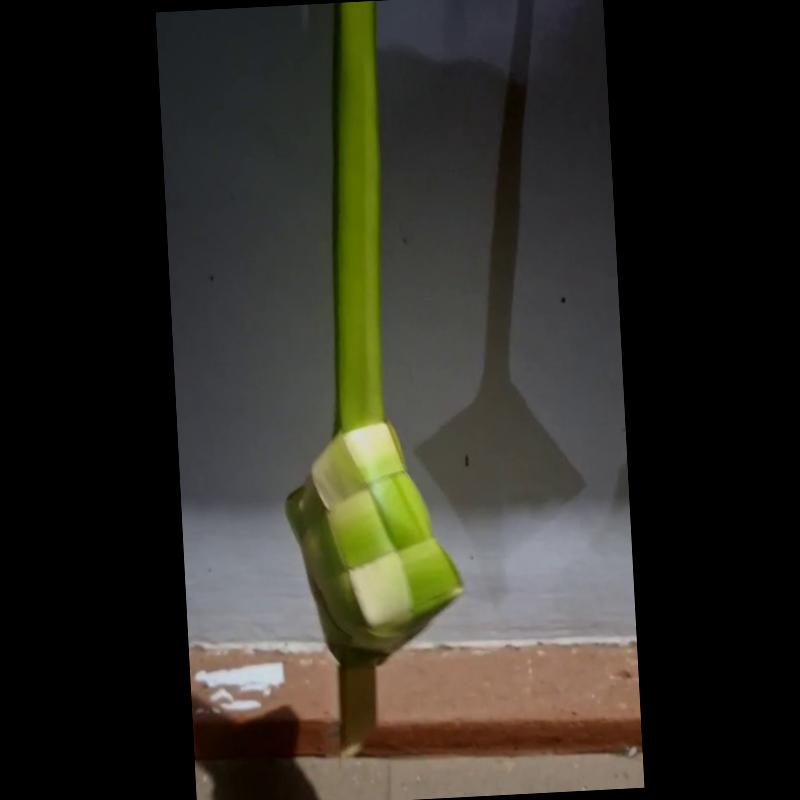Tipat Nasi: (255, 410, 473, 760)
